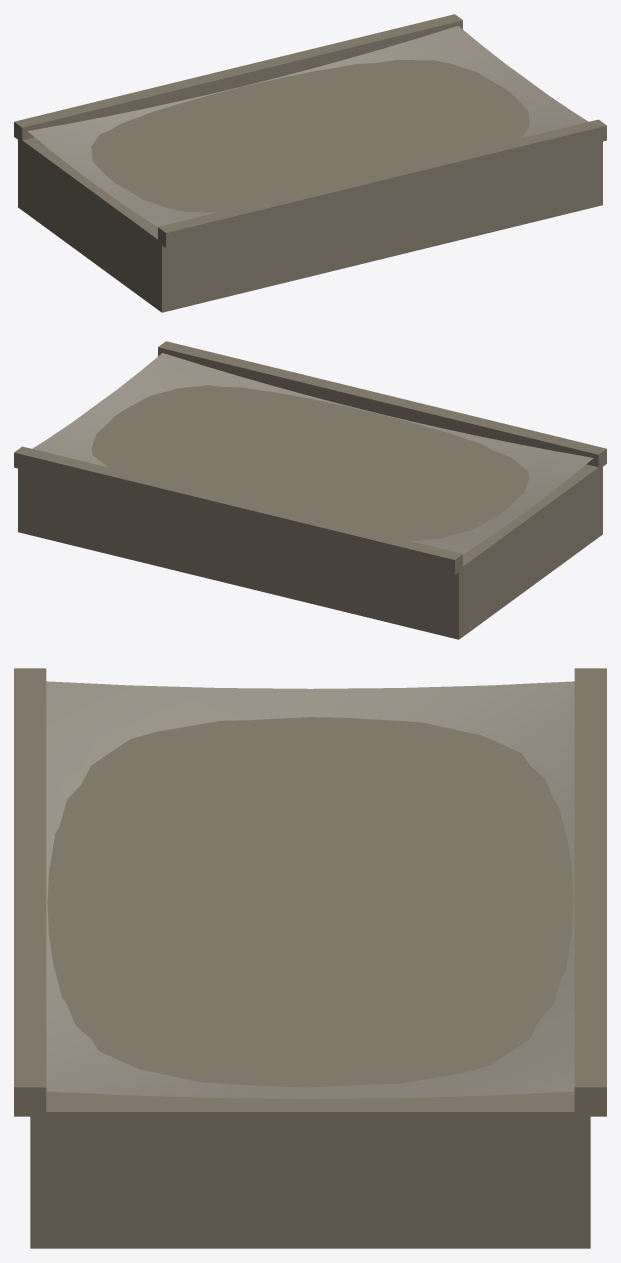
The model's file is lake-kayrak-shallows-0.glb.
3 views of the same model, one above another, from view 1: azimuth 30°, elevation 25°; view 2: azimuth 150°, elevation 25°; view 3: azimuth 270°, elevation 25° (orthographic). The views are drawn at different scales.
Parts seen in each view (by area): view 1: lake-kayrak-shallows-0; view 2: lake-kayrak-shallows-0; view 3: lake-kayrak-shallows-0.
Part boxes in pixels (x1,y1,x2,y2): lake-kayrak-shallows-0: (14, 14, 606, 312); lake-kayrak-shallows-0: (14, 341, 606, 639); lake-kayrak-shallows-0: (14, 668, 606, 1248).
Size of the model in its own units: 0.46 by 0.0825 by 0.275.
